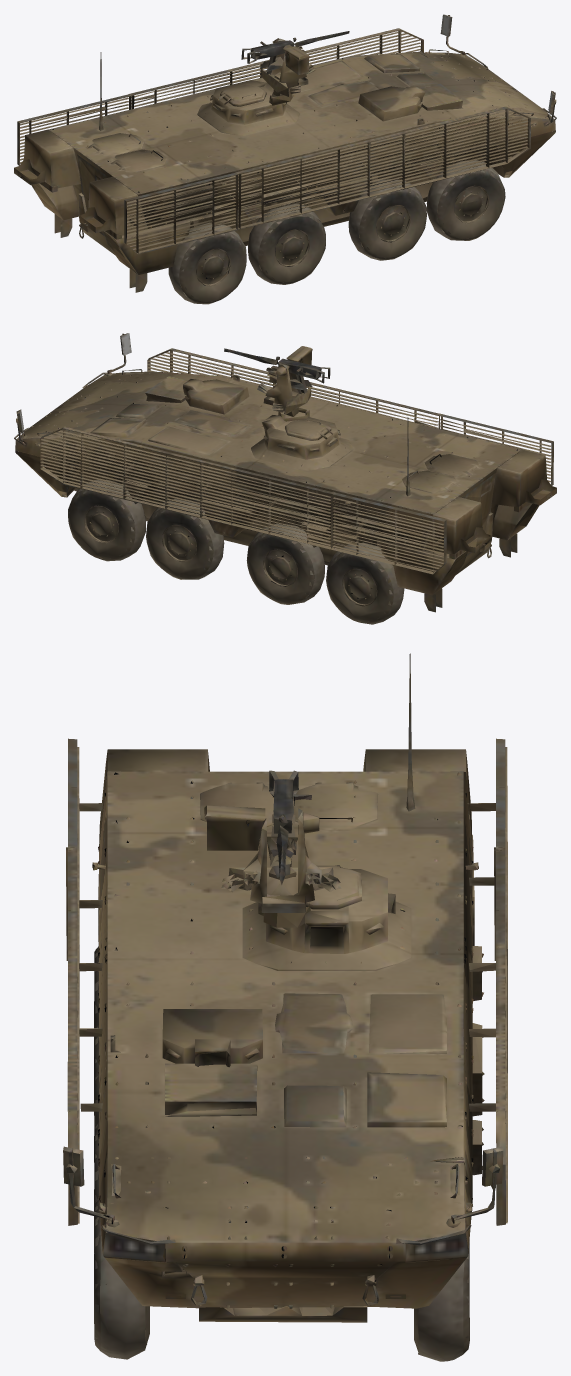
Rendered from fh_battle_e_convoy_ifv.glb.
The picture shows the model from 3 angles, top to bottom: view 1: azimuth 30°, elevation 25°; view 2: azimuth 150°, elevation 25°; view 3: azimuth 270°, elevation 25°; orthographic projection. The views are drawn at different scales.
Parts seen in each view (by area): view 1: convoy_ifv, wheel_f2r, wheel_fr, wheel_2r, wheel_1r, turret; view 2: convoy_ifv, wheel_fl, wheel_f2l, wheel_1l, wheel_2l, turret; view 3: convoy_ifv, turret, wheel_fr.
Part boxes in pixels (x1=…): convoy_ifv: x1=14, y1=14, x2=556, y2=304; wheel_f2r: x1=349, y1=187, x2=426, y2=259; wheel_fr: x1=426, y1=162, x2=504, y2=240; wheel_2r: x1=179, y1=231, x2=246, y2=303; wheel_1r: x1=248, y1=210, x2=325, y2=284; turret: x1=241, y1=31, x2=349, y2=96; convoy_ifv: x1=14, y1=333, x2=556, y2=624; wheel_fl: x1=68, y1=488, x2=145, y2=560; wheel_f2l: x1=146, y1=507, x2=213, y2=579; wheel_1l: x1=247, y1=532, x2=324, y2=604; wheel_2l: x1=326, y1=551, x2=404, y2=623; turret: x1=224, y1=346, x2=330, y2=416; convoy_ifv: x1=63, y1=653, x2=507, y2=1361; turret: x1=204, y1=770, x2=341, y2=912; wheel_fr: x1=94, y1=1198, x2=149, y2=1350.
Bounding box in the file's own units: 0.9999 × 0.4269 × 0.4146.
1 material, 1 textured.
